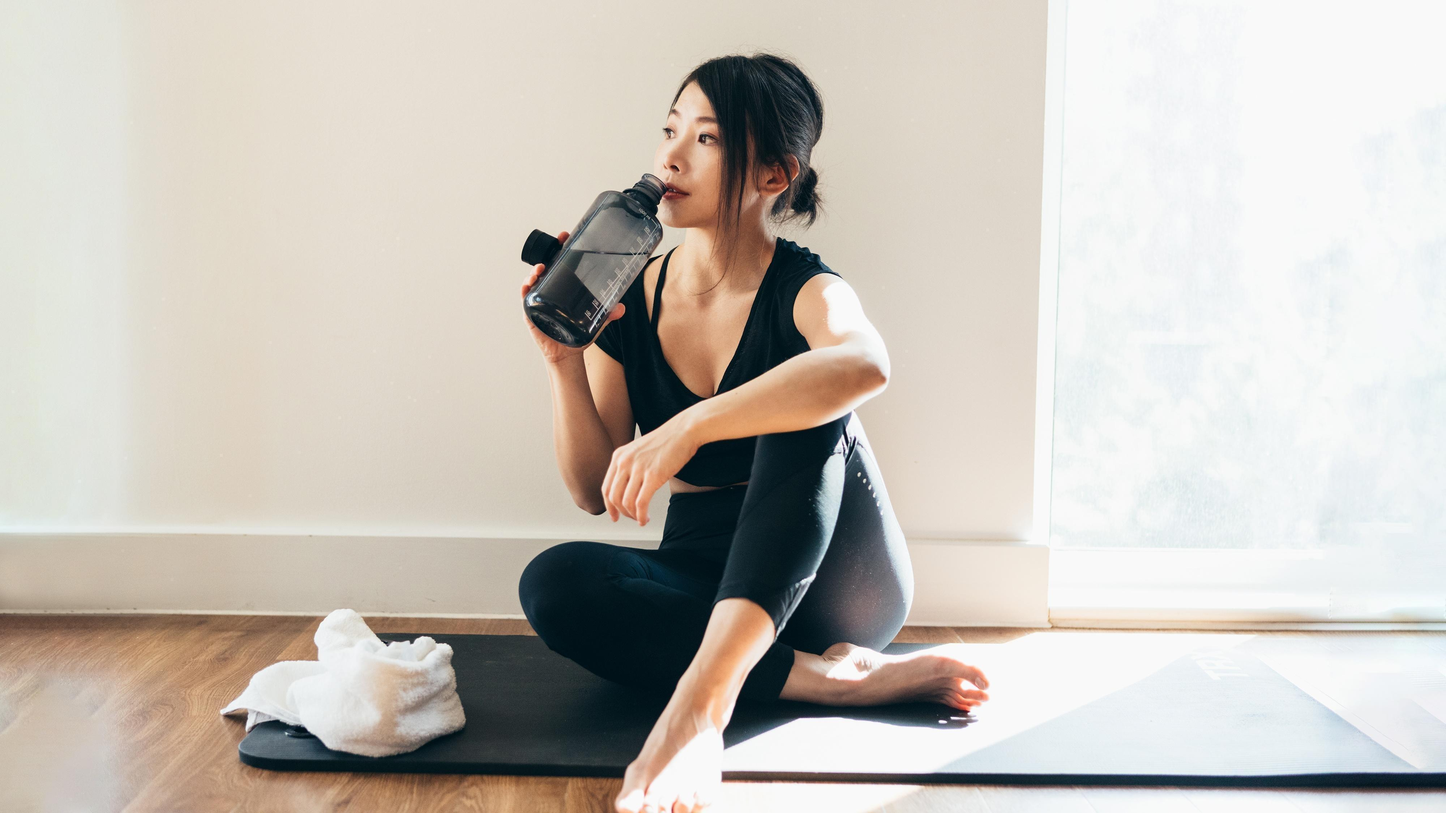gym bottle: (514, 164, 664, 349)
